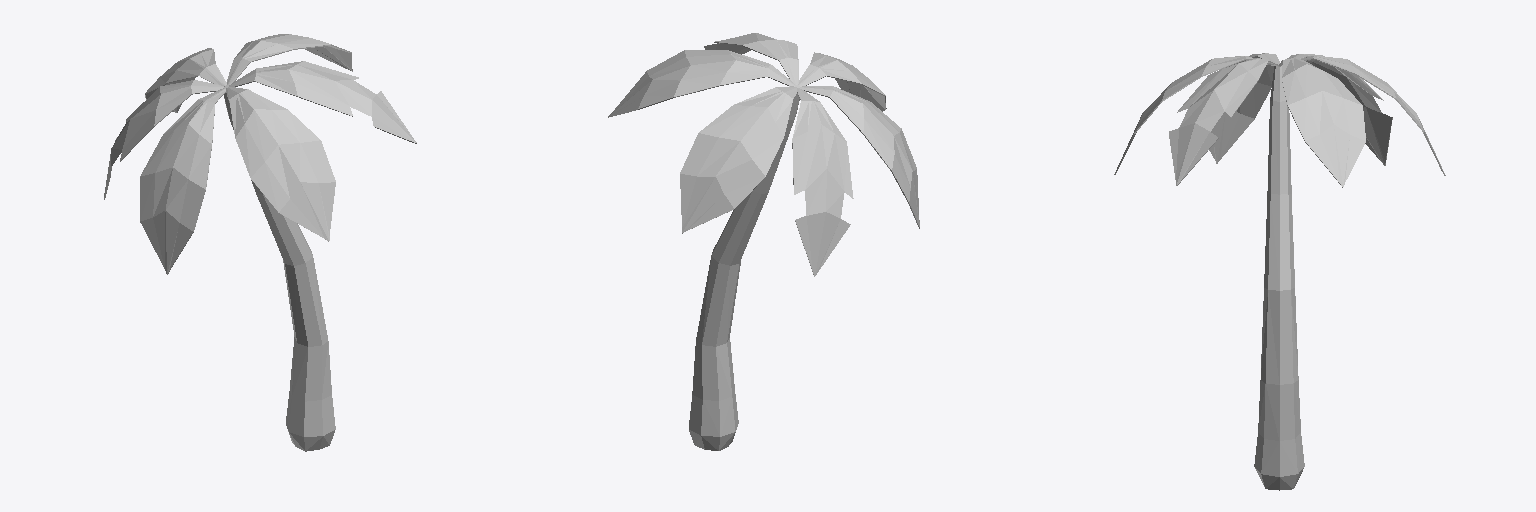
The model's file is Palmtree.obj.
3 views of the same model, side by side, from view 1: azimuth 30°, elevation 25°; view 2: azimuth 150°, elevation 25°; view 3: azimuth 270°, elevation 25° (orthographic).
Parts seen in each view (by area): view 1: Plane.003_Plane.005, Cube.001_Cube.002, Plane.002_Plane.004, Plane.004_Plane.006, Plane.001_Plane.003, Plane.005_Plane.007, Plane; view 2: Cube.001_Cube.002, Plane, Plane.001_Plane.003, Plane.005_Plane.007, Plane.002_Plane.004, Plane.003_Plane.005, Plane.004_Plane.006; view 3: Cube.001_Cube.002, Plane.005_Plane.007, Plane.004_Plane.006, Plane.001_Plane.003, Plane.002_Plane.004, Plane.003_Plane.005, Plane.
Part boxes in pixels (x1,y1,x2,y2): Plane.003_Plane.005: (226, 87, 335, 241); Cube.001_Cube.002: (224, 85, 335, 451); Plane.002_Plane.004: (140, 88, 225, 274); Plane.004_Plane.006: (229, 61, 416, 143); Plane.001_Plane.003: (104, 80, 223, 199); Plane.005_Plane.007: (227, 34, 352, 84); Plane: (145, 48, 226, 112); Cube.001_Cube.002: (689, 85, 799, 450); Plane: (680, 86, 796, 233); Plane.001_Plane.003: (792, 88, 853, 276); Plane.005_Plane.007: (608, 50, 794, 117); Plane.002_Plane.004: (800, 86, 919, 228); Plane.003_Plane.005: (798, 52, 886, 111); Plane.004_Plane.006: (704, 33, 798, 84); Cube.001_Cube.002: (1254, 65, 1304, 490); Plane.005_Plane.007: (1279, 58, 1365, 187); Plane.004_Plane.006: (1169, 58, 1279, 185); Plane.001_Plane.003: (1287, 54, 1392, 165); Plane.002_Plane.004: (1209, 53, 1279, 163); Plane.003_Plane.005: (1114, 56, 1271, 174); Plane: (1301, 56, 1445, 175).
Size of the model in its own units: 5.22 by 7.8 by 5.83.